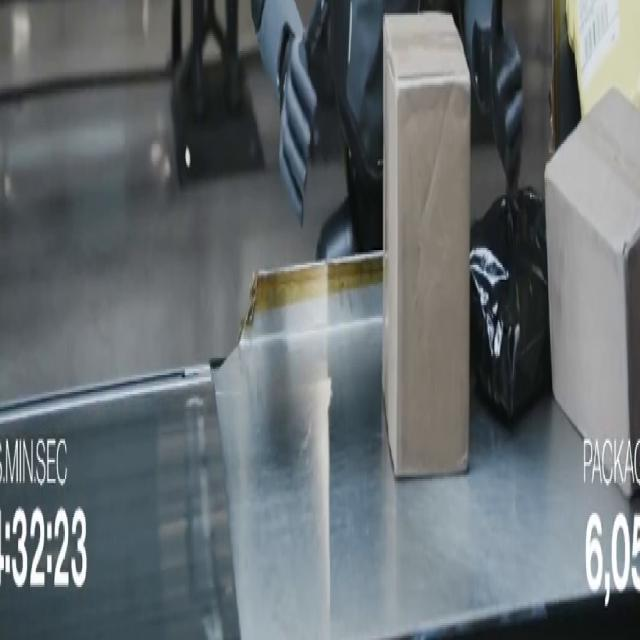package: (383, 13, 470, 476), (545, 90, 639, 495), (470, 189, 551, 423), (566, 0, 639, 116)
